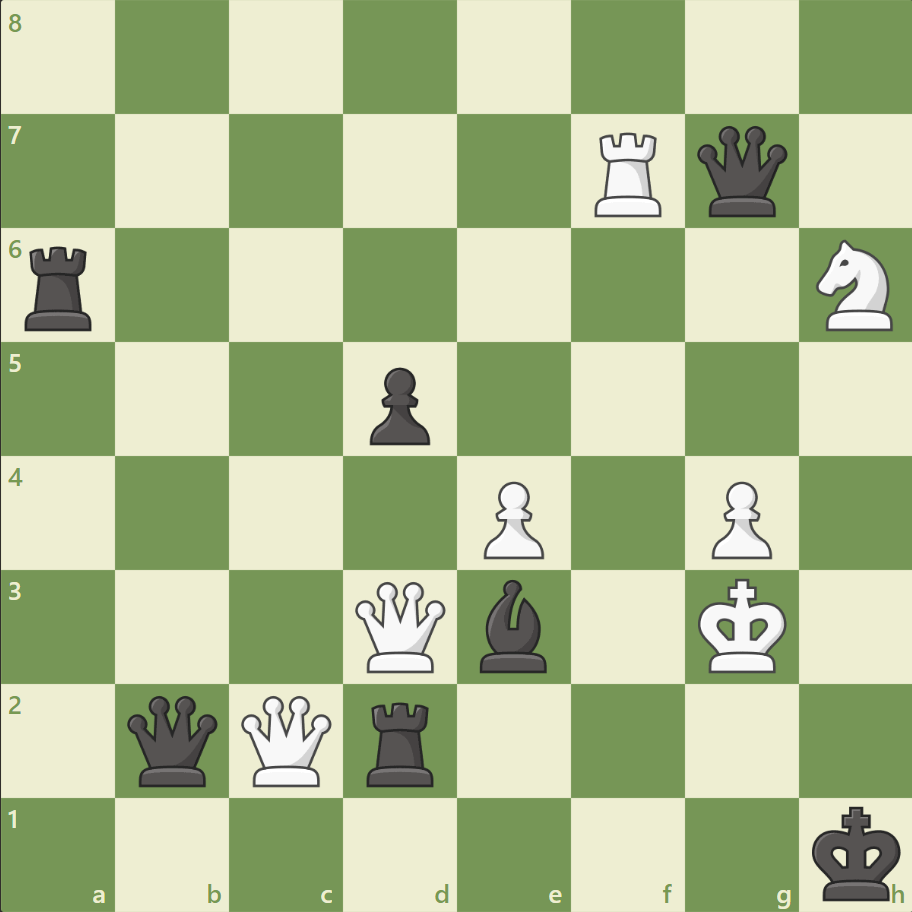K: (692, 571, 792, 679)
N: (806, 234, 903, 337)
P: (474, 473, 549, 564), (701, 473, 776, 564)
Q: (351, 576, 450, 676), (237, 690, 336, 789)
R: (587, 125, 670, 222)
b: (471, 574, 555, 676)
k: (806, 798, 906, 906)
p: (361, 359, 435, 450)
q: (691, 122, 790, 222), (124, 690, 223, 789)
r: (19, 239, 102, 336), (360, 693, 442, 790)
